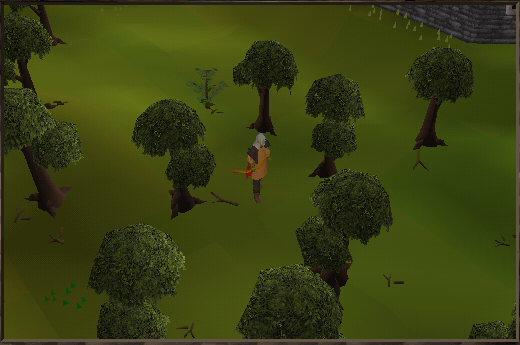Tree: (0, 88, 79, 207), (297, 181, 391, 272), (134, 99, 210, 208), (302, 73, 373, 171), (408, 46, 476, 148), (230, 37, 296, 130)
